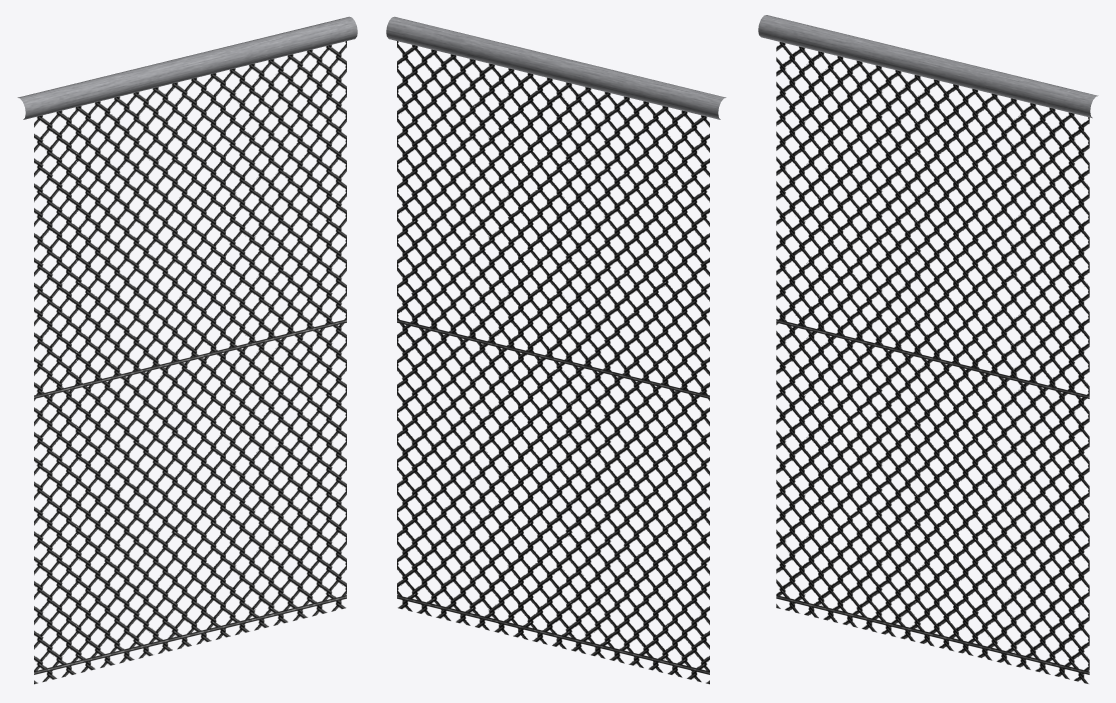
File: fence-tall-chainlink-1rail-noPost-1m-cbj_LOD00.gltf
3 renders of one model, left to right at view 1: azimuth 30°, elevation 25°; view 2: azimuth 150°, elevation 25°; view 3: azimuth 330°, elevation 25°, orthographic.
Visible parts, largest first — view 1: cube00; view 2: cube00; view 3: cube00.
Part boxes in pixels (x1=…): cube00: x1=17, y1=16, x2=357, y2=684; cube00: x1=386, y1=16, x2=726, y2=684; cube00: x1=758, y1=15, x2=1098, y2=683.
Size of the model in its own units: 1.08 by 1.85 by 0.065.
